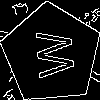W: (26, 29, 75, 80)
